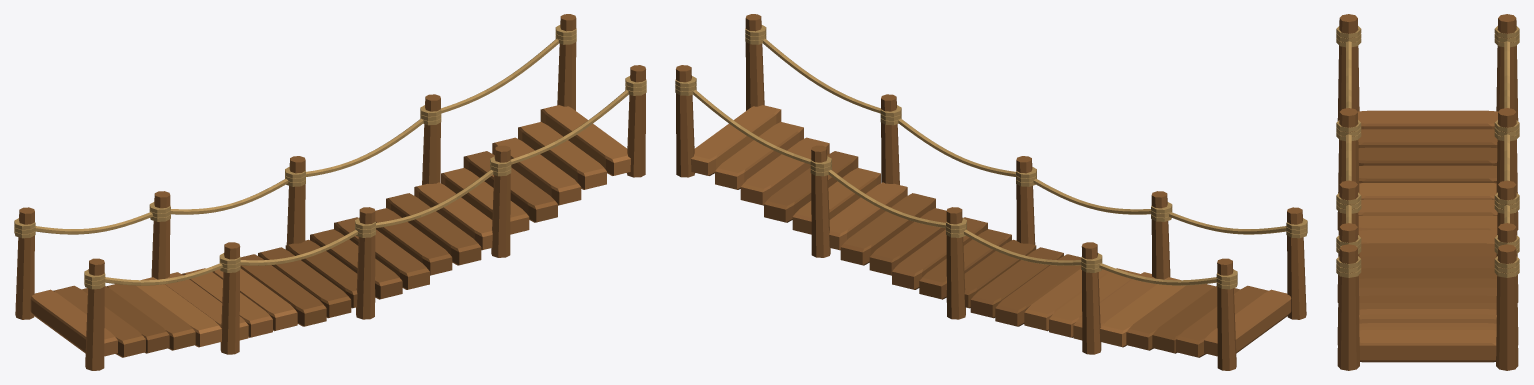
File: Bridge.glb
The picture shows the model from 3 angles, left to right: view 1: azimuth 30°, elevation 25°; view 2: azimuth 150°, elevation 25°; view 3: azimuth 270°, elevation 25°; orthographic projection. The views are drawn at different scales.
Visible parts, largest first — view 1: Bridge; view 2: Bridge; view 3: Bridge.
Part boxes in pixels (left/top/right/bottom): Bridge: left=14, top=14, right=646, bottom=370; Bridge: left=675, top=14, right=1307, bottom=370; Bridge: left=1336, top=14, right=1519, bottom=370.
Size of the model in its own units: 6.21 by 1.94 by 1.55.
